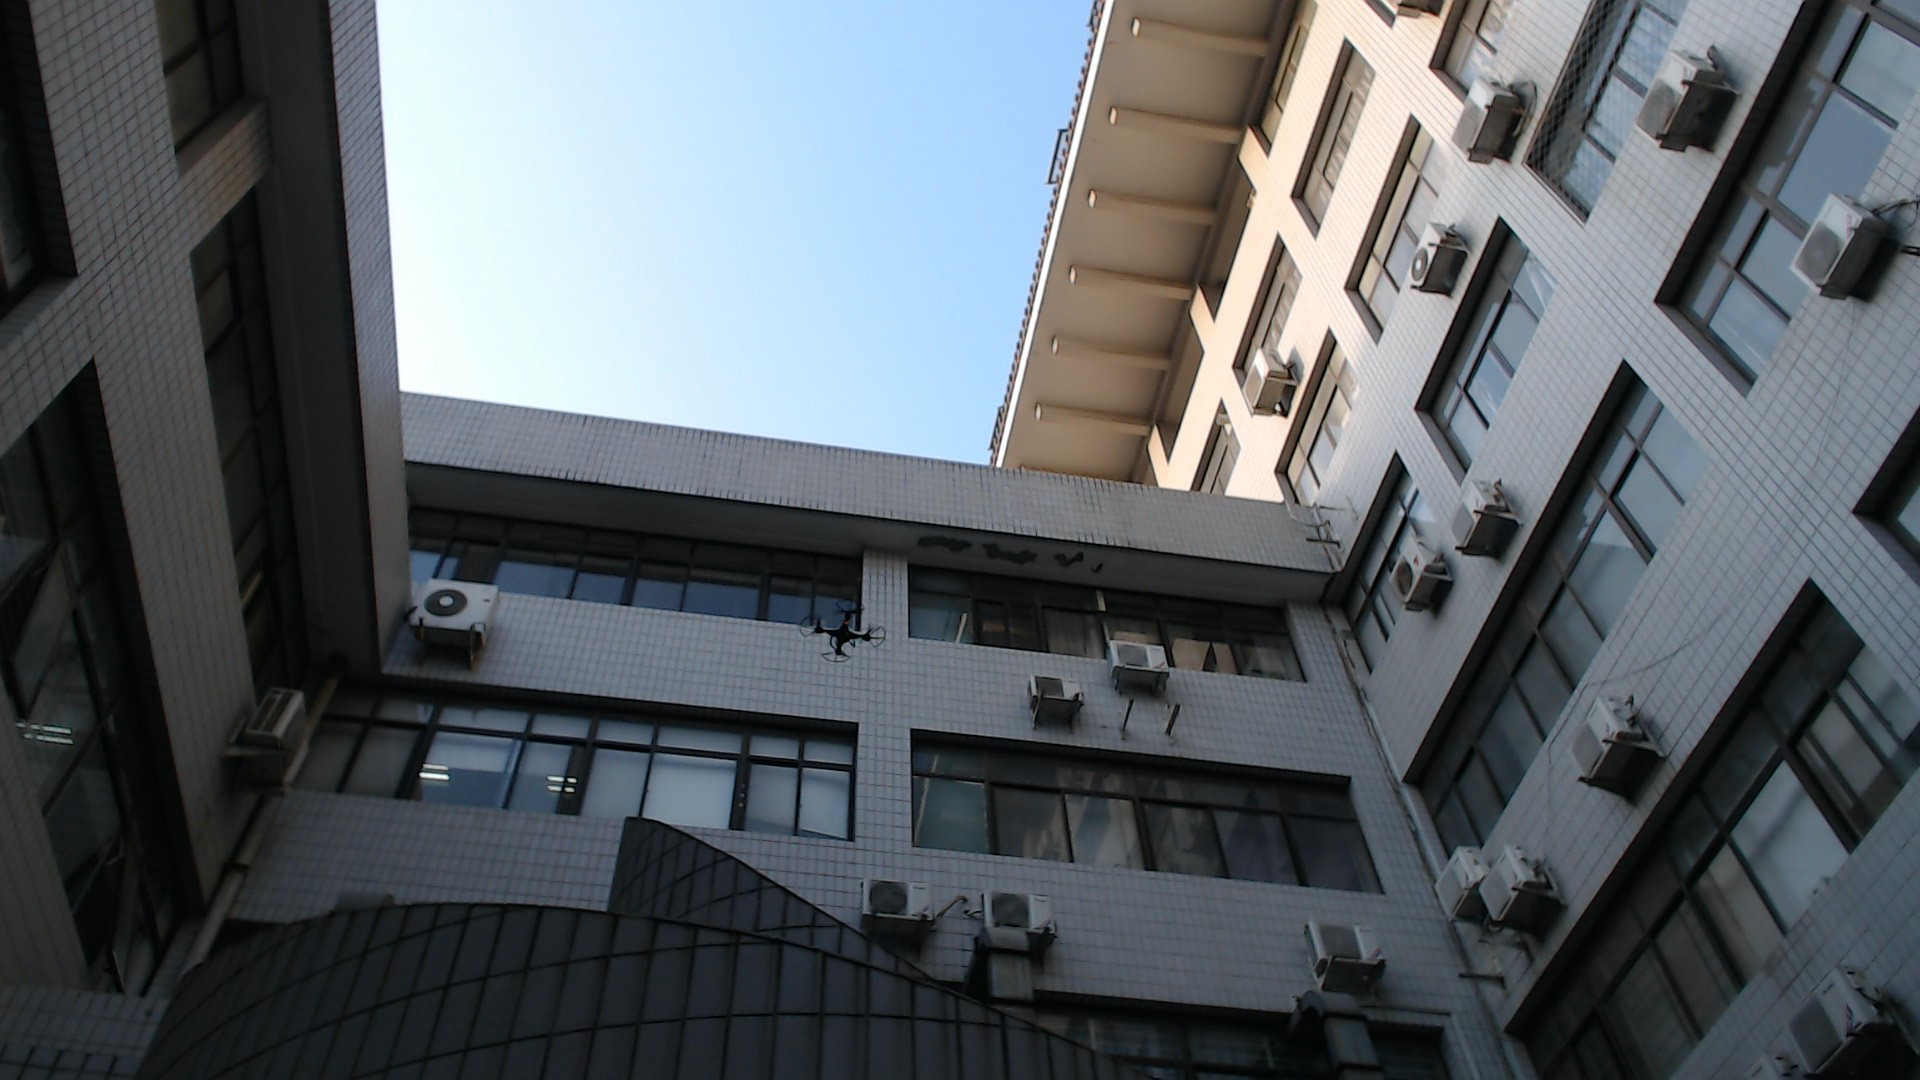drone: (770, 572, 905, 679)
